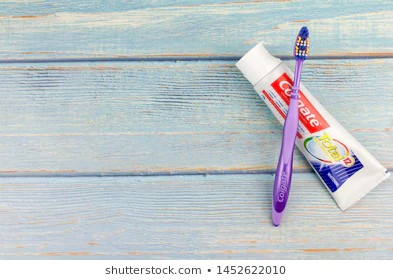colgate-total-150gm: (239, 38, 388, 207)
toothbrush: (266, 25, 313, 227)
